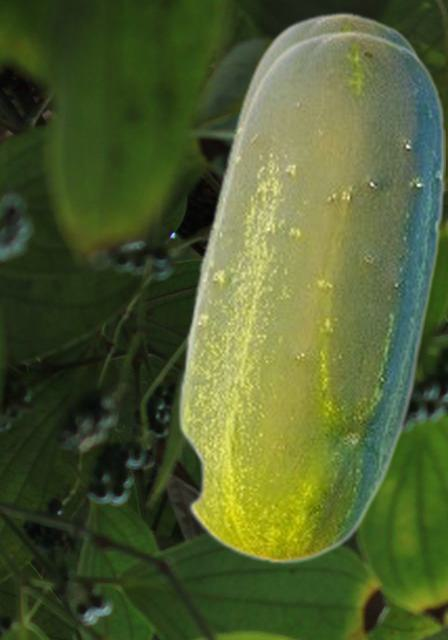cucumber: (176, 29, 444, 564), (183, 11, 424, 464)
